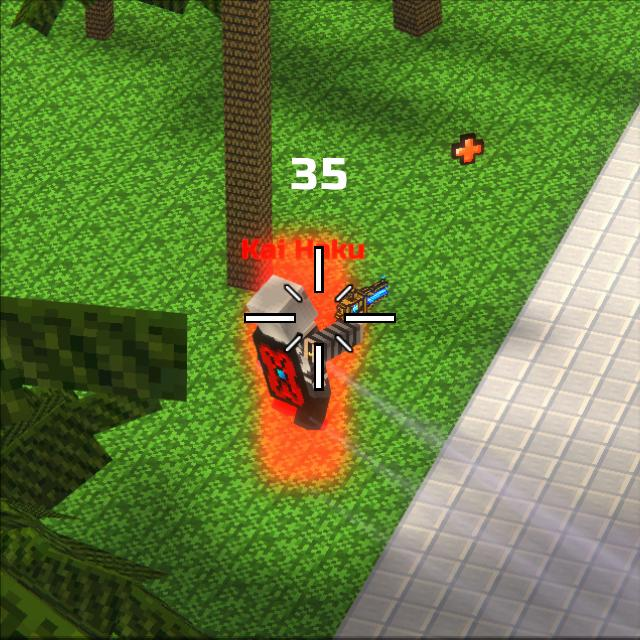Enemy: (249, 282, 364, 432)
